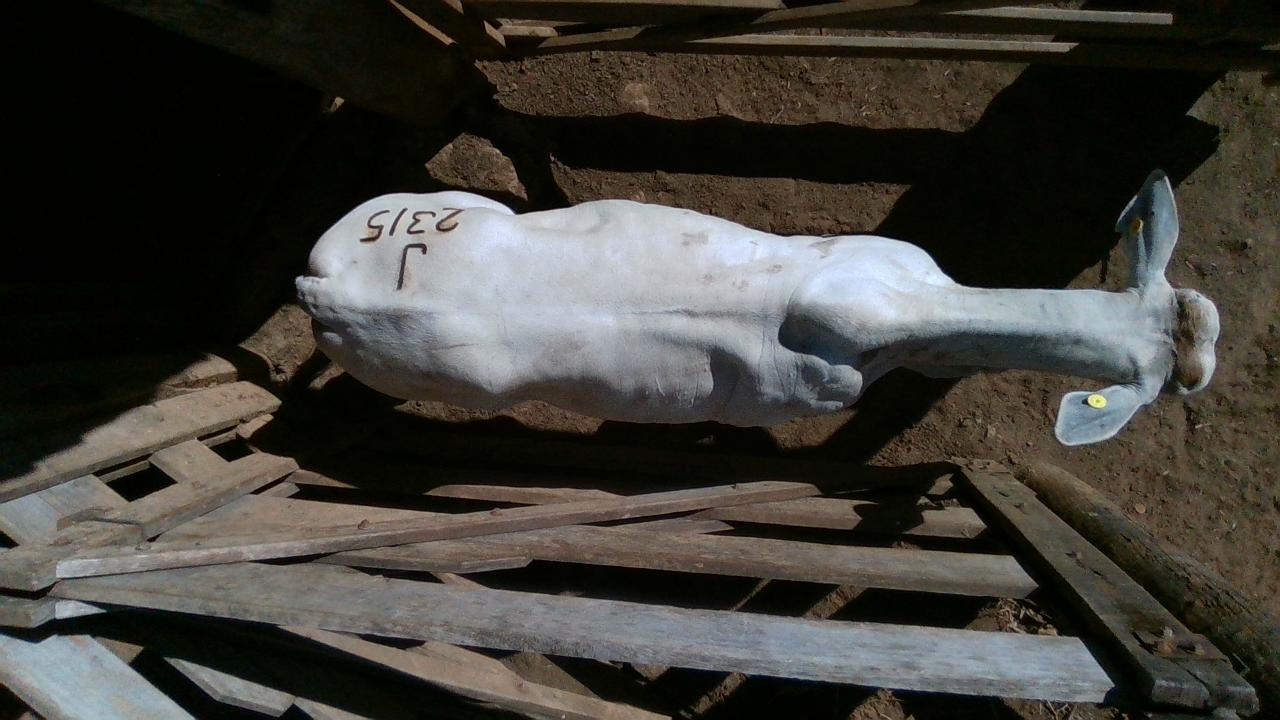cattle: (293, 168, 1220, 446)
